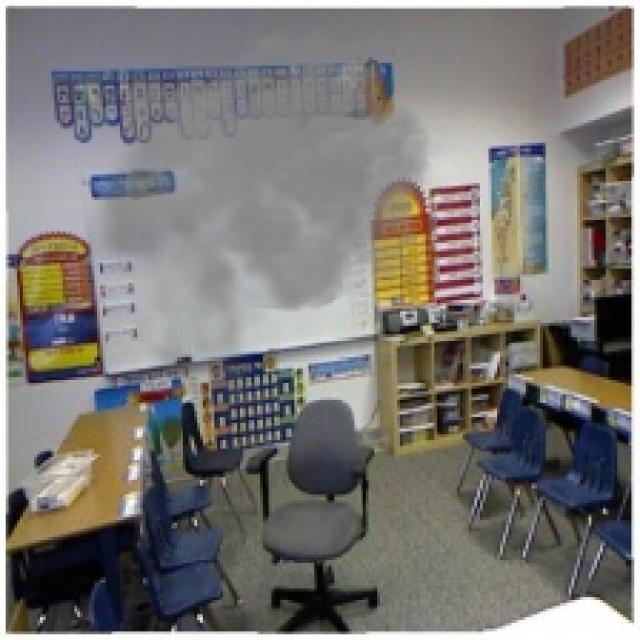Smoke: (80, 19, 457, 414)
